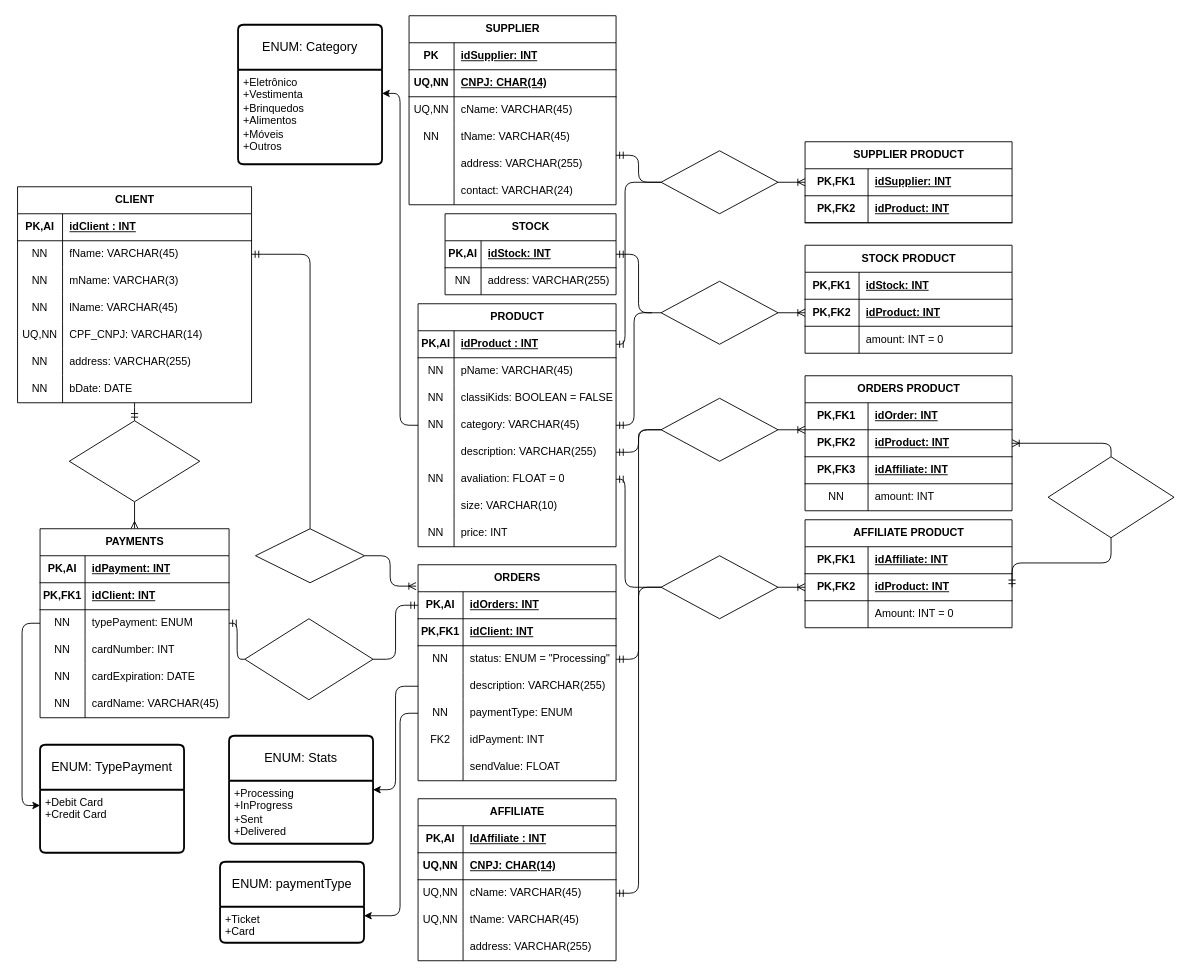
The diagram is 1190 pixels wide and 977 high, and some of its shapes have lost their labels. The shapes that lost their labels are listed below. From the top down, each one's centre as x and y in pixels, then its label:
the point at 719,182: Fornecedor possui Produtos
the point at 719,312: Estoque contém Produtos
the point at 719,429: Pedido contém Produtos
the point at 134,461: Cliente possui forma de pagamento
the point at 1110,497: Pedido contém produto de afiliado
the point at 310,555: Faz um pedido
the point at 719,587: Afiliado possui Produto
the point at 308,659: Pedido possui forma de pagamento
